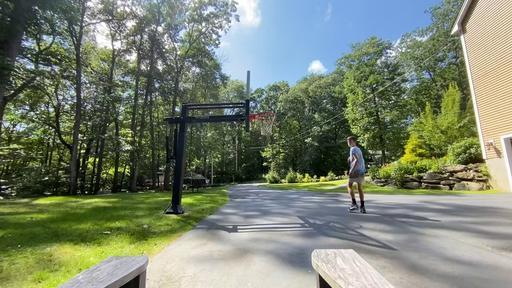human: (347, 136, 366, 214)
rim: (253, 112, 275, 135)
